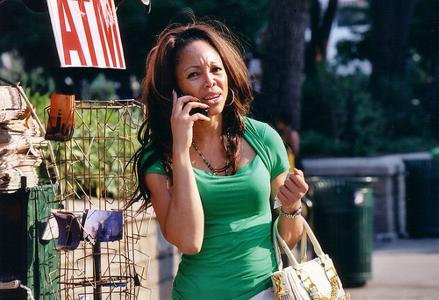person: (136, 20, 350, 299)
